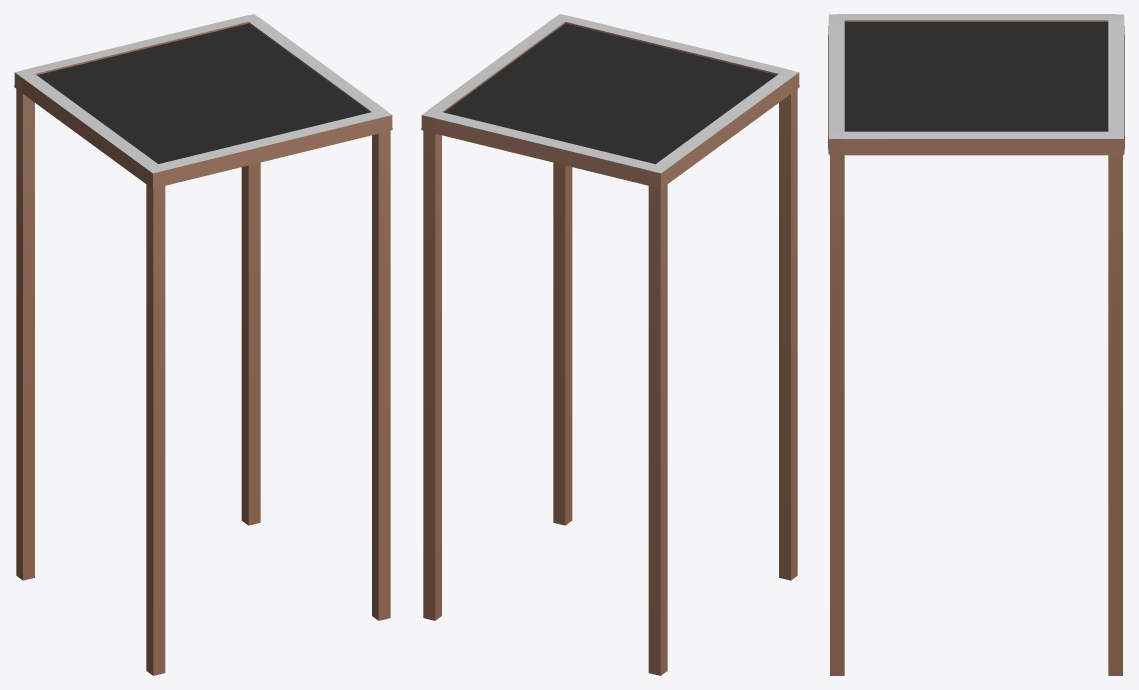
File: tabouret.fbx
3 renders of one model, left to right at view 1: azimuth 30°, elevation 25°; view 2: azimuth 150°, elevation 25°; view 3: azimuth 270°, elevation 25°, orthographic. The views are drawn at different scales.
Visible parts, largest first — view 1: Cube.109; view 2: Cube.109; view 3: Cube.109.
Boxes of the visible parts, bbox=[...] form: Cube.109: bbox=[14, 14, 392, 675]; Cube.109: bbox=[421, 14, 799, 675]; Cube.109: bbox=[828, 14, 1124, 675].
Bounding box in the file's own units: 30.42 × 30.42 × 60.85.
